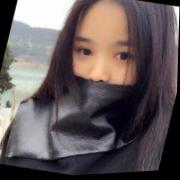WRONG: (55, 20, 148, 127)
